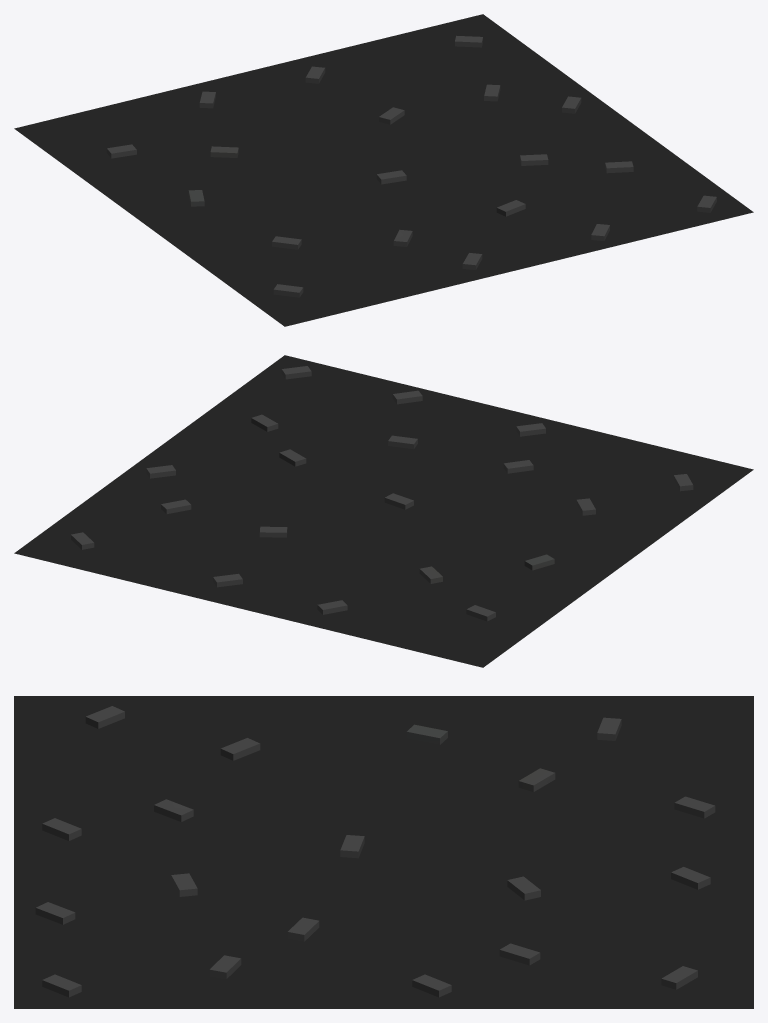
File: Floortile_2.fbx
3 views of the same model, one above another, from view 1: azimuth 30°, elevation 25°; view 2: azimuth 150°, elevation 25°; view 3: azimuth 270°, elevation 25° (orthographic). The views are drawn at different scales.
Visible parts, largest first — view 1: Plane.003; view 2: Plane.003; view 3: Plane.003.
Boxes of the visible parts, left/top/right/bottom form: Plane.003: left=14, top=14, right=753, bottom=326; Plane.003: left=14, top=355, right=753, bottom=667; Plane.003: left=14, top=696, right=753, bottom=1008.
Size of the model in its own units: 400 by 4 by 400.
1 material, 1 textured.
